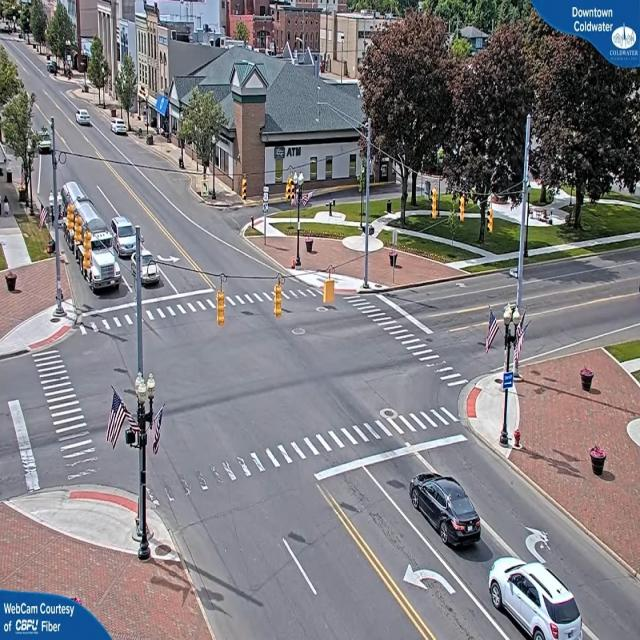car: (491, 561, 586, 640), (410, 476, 482, 550), (110, 218, 142, 257), (143, 256, 162, 287), (112, 120, 130, 138), (77, 111, 93, 128)
truck: (83, 243, 121, 293)
